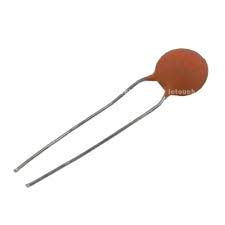ceramic capacitor: (115, 24, 222, 143)
